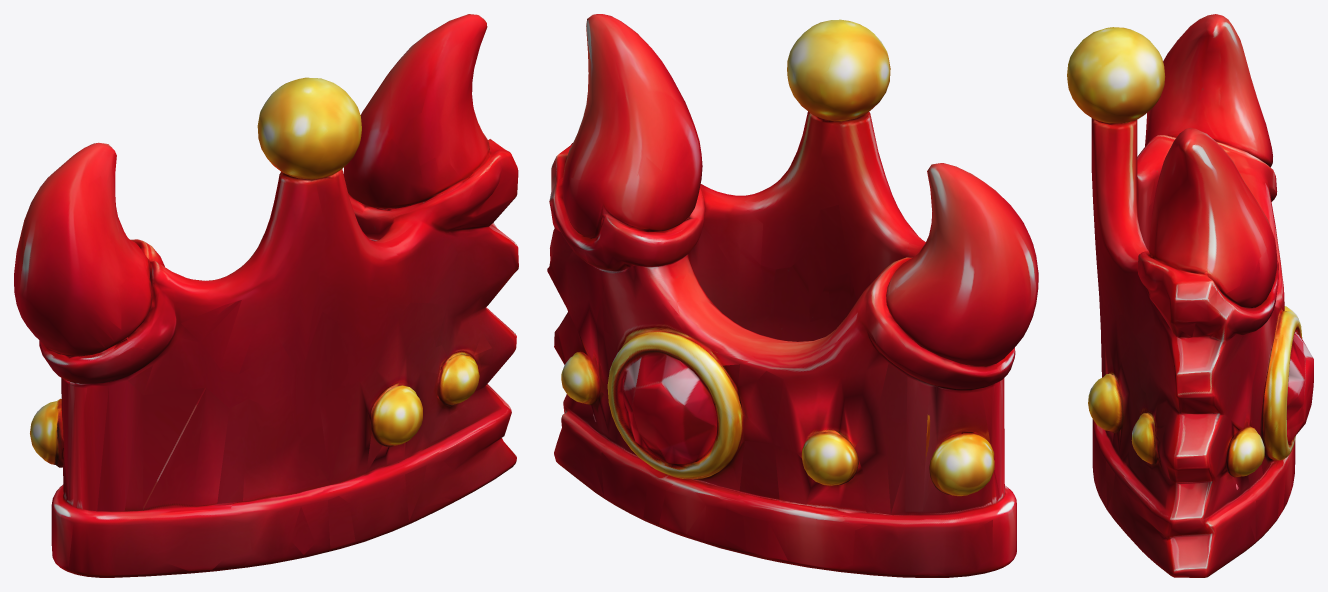
File: Crown_RedHalf_HD_LOD.glb
3 renders of one model, left to right at view 1: azimuth 30°, elevation 25°; view 2: azimuth 150°, elevation 25°; view 3: azimuth 270°, elevation 25°, orthographic. The views are drawn at different scales.
Visible parts, largest first — view 1: tripo_node_e52bc04a-1c77-41c5-8aa6-872048991ab9; view 2: tripo_node_e52bc04a-1c77-41c5-8aa6-872048991ab9; view 3: tripo_node_e52bc04a-1c77-41c5-8aa6-872048991ab9.
Part boxes in pixels (bbox=[...]): tripo_node_e52bc04a-1c77-41c5-8aa6-872048991ab9: bbox=[14, 14, 518, 577]; tripo_node_e52bc04a-1c77-41c5-8aa6-872048991ab9: bbox=[547, 14, 1038, 577]; tripo_node_e52bc04a-1c77-41c5-8aa6-872048991ab9: bbox=[1067, 14, 1313, 577].
Bounding box in the file's own units: 0.9816 × 0.9054 × 0.4594.
1 material, 1 textured.
